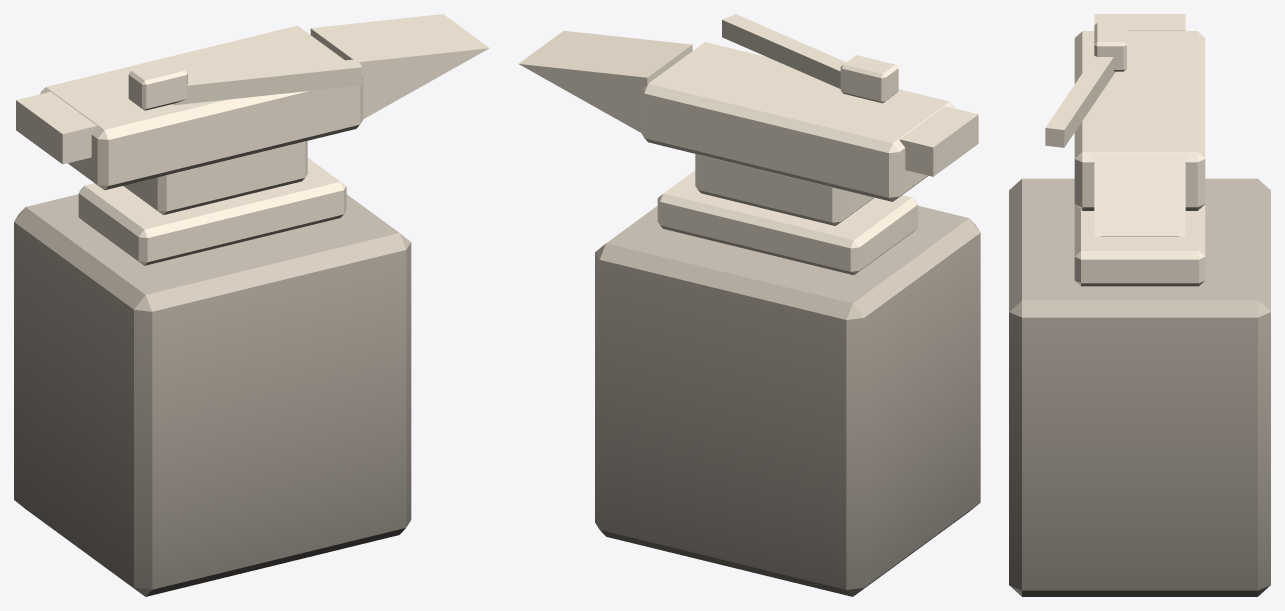
File: SM_VKI_Prop_Anvil_Dwarf.fbx
3 views of the same model, side by side, from view 1: azimuth 30°, elevation 25°; view 2: azimuth 150°, elevation 25°; view 3: azimuth 270°, elevation 25° (orthographic). The views are drawn at different scales.
Visible parts, largest first — view 1: SM_VKI_Prop_Anvil_Dwarf.001; view 2: SM_VKI_Prop_Anvil_Dwarf.001; view 3: SM_VKI_Prop_Anvil_Dwarf.001.
Boxes of the visible parts, x1,y1,x2,y2 form: SM_VKI_Prop_Anvil_Dwarf.001: (14,14,489,596); SM_VKI_Prop_Anvil_Dwarf.001: (518,14,980,596); SM_VKI_Prop_Anvil_Dwarf.001: (1009,14,1270,596).
Size of the model in its own units: 0.74 by 0.793 by 0.4.
